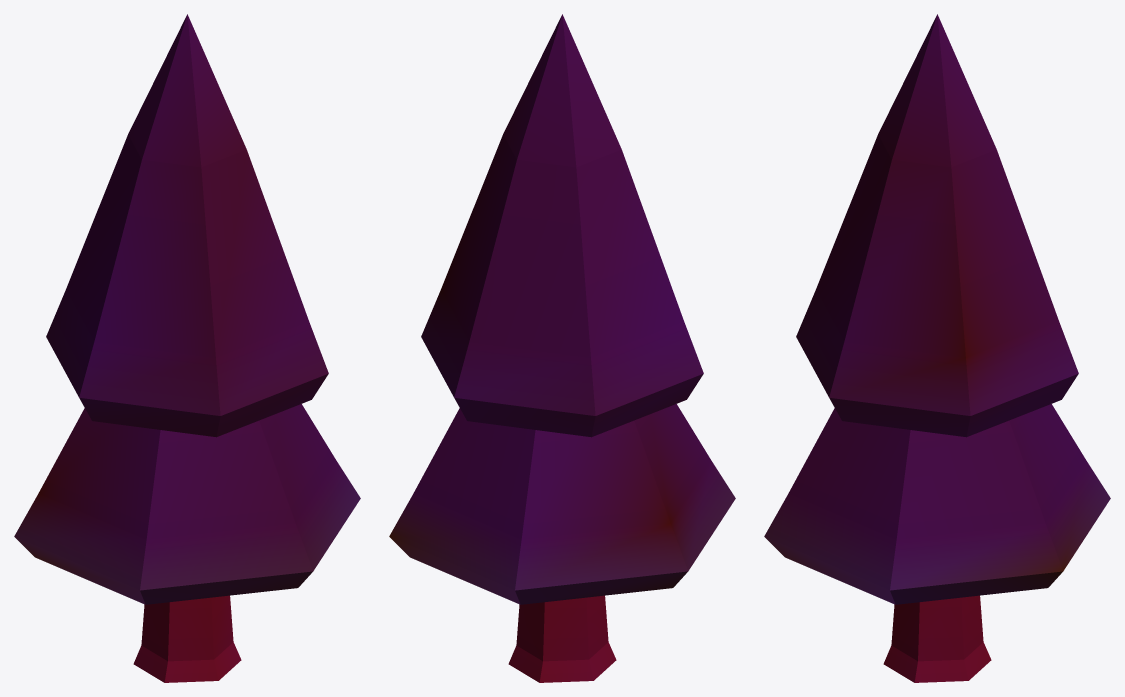
File: Tree_Pine_Background_01.glb
3 views of the same model, side by side, from view 1: azimuth 30°, elevation 25°; view 2: azimuth 150°, elevation 25°; view 3: azimuth 270°, elevation 25° (orthographic).
Visible parts, largest first — view 1: Tree_Pine_Background_01; view 2: Tree_Pine_Background_01; view 3: Tree_Pine_Background_01.
Boxes of the visible parts, x1,y1,x2,y2 form: Tree_Pine_Background_01: [14, 14, 360, 682]; Tree_Pine_Background_01: [389, 14, 735, 682]; Tree_Pine_Background_01: [764, 14, 1110, 682].
Size of the model in its own units: 3.21 by 6.65 by 3.22.
